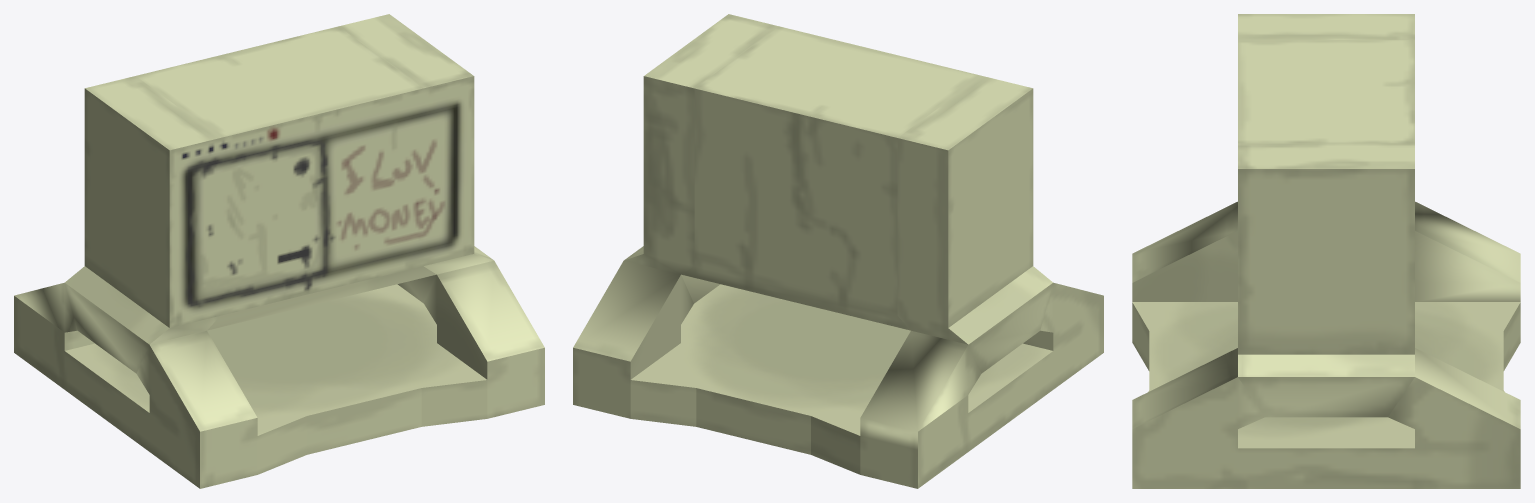
Rendered from cpu_brutalist.fbx.
The picture shows the model from 3 angles, left to right: view 1: azimuth 30°, elevation 25°; view 2: azimuth 150°, elevation 25°; view 3: azimuth 270°, elevation 25°; orthographic projection. The views are drawn at different scales.
Parts seen in each view (by area): view 1: Cube.004; view 2: Cube.004; view 3: Cube.004.
Part boxes in pixels (x1,y1,x2,y2): Cube.004: (14, 14, 544, 488); Cube.004: (573, 14, 1103, 488); Cube.004: (1132, 14, 1520, 488).
Size of the model in its own units: 32.94 by 27.08 by 30.79.
Materials: 1 (1 with a texture image).
